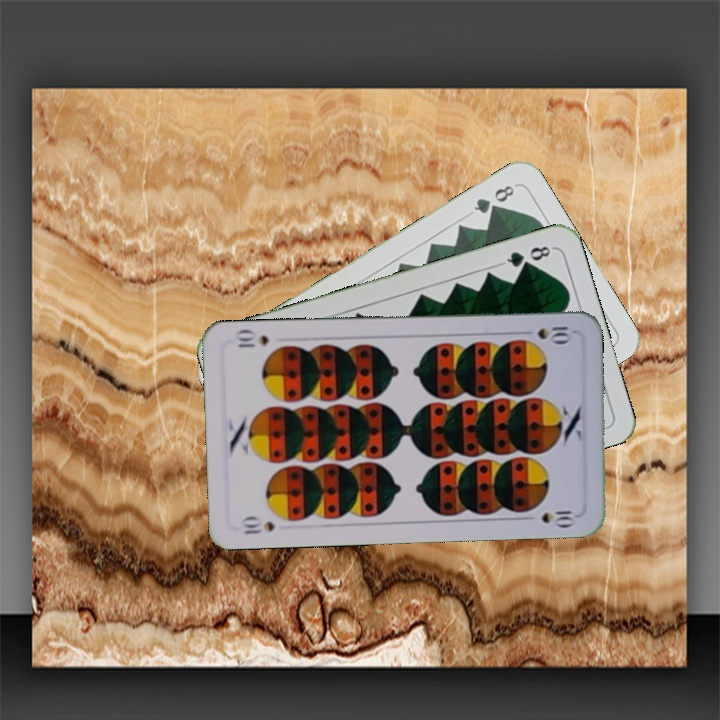G8: (469, 180, 519, 217), (498, 242, 556, 270)
S10: (238, 513, 277, 537), (534, 322, 576, 344)
